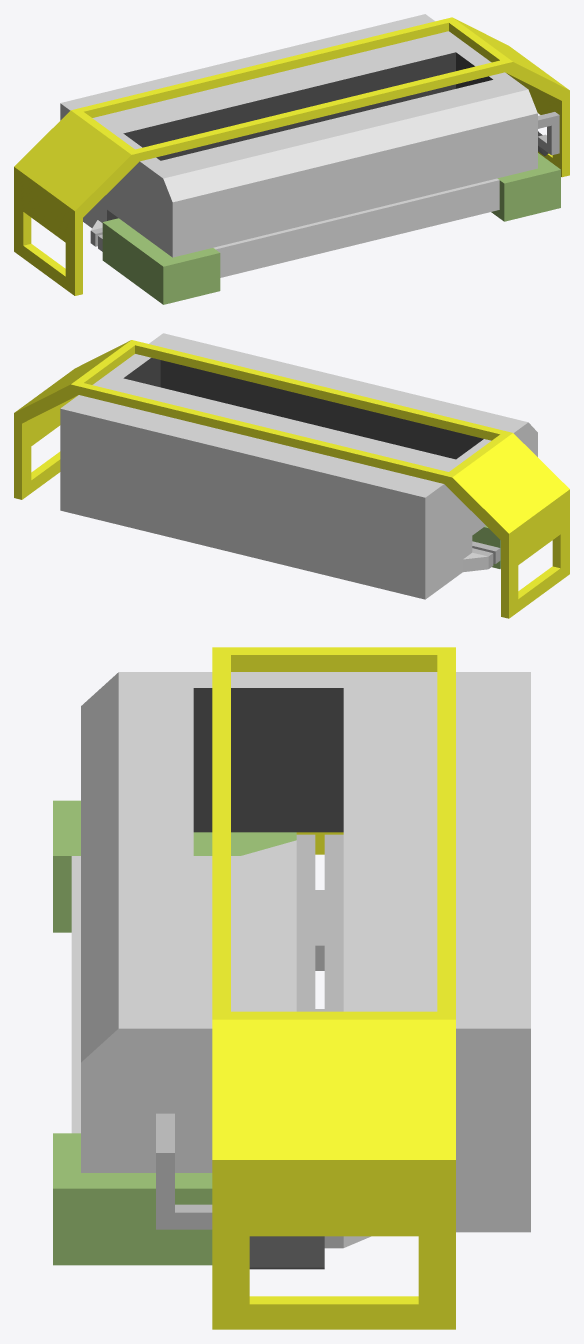
File: cnc_bending_machine_4_state_2.dae
The picture shows the model from 3 angles, top to bottom: view 1: azimuth 30°, elevation 25°; view 2: azimuth 150°, elevation 25°; view 3: azimuth 270°, elevation 25°; orthographic projection. The views are drawn at different scales.
Visible parts, largest first — view 1: coords_ME_ID53_MA_material_8, coords_ME_ID41_MA_material_3, coords_ME_ID109_MA_material, coords_ME_ID19_MA_Color_F09_, coords_ME_ID11_MA_Color_F09_, coords_ME_ID25_MA_material_11, coords_ME_ID3_MA_material_3; view 2: coords_ME_ID53_MA_material_8, coords_ME_ID41_MA_material_3, coords_ME_ID109_MA_material, coords_ME_ID3_MA_material_3, coords_ME_ID19_MA_Color_F09_, coords_ME_ID61_MA_material_11; view 3: coords_ME_ID53_MA_material_8, coords_ME_ID41_MA_material_3, coords_ME_ID109_MA_material, coords_ME_ID11_MA_Color_F09_, coords_ME_ID103_MA_material_8, coords_ME_ID61_MA_material_11, coords_ME_ID19_MA_Color_F09_, coords_ME_ID25_MA_material_11, coords_ME_ID67_MA_material, coords_ME_ID85_MA_material_3.
Part boxes in pixels (bbox=[...]): coords_ME_ID53_MA_material_8: bbox=[60, 14, 537, 277]; coords_ME_ID41_MA_material_3: bbox=[14, 17, 569, 295]; coords_ME_ID109_MA_material: bbox=[107, 52, 492, 220]; coords_ME_ID19_MA_Color_F09_: bbox=[102, 218, 220, 304]; coords_ME_ID11_MA_Color_F09_: bbox=[491, 153, 560, 221]; coords_ME_ID25_MA_material_11: bbox=[538, 112, 559, 155]; coords_ME_ID3_MA_material_3: bbox=[23, 212, 65, 276]; coords_ME_ID53_MA_material_8: bbox=[60, 333, 537, 599]; coords_ME_ID41_MA_material_3: bbox=[14, 340, 569, 618]; coords_ME_ID109_MA_material: bbox=[123, 358, 483, 459]; coords_ME_ID3_MA_material_3: bbox=[518, 534, 560, 598]; coords_ME_ID19_MA_Color_F09_: bbox=[472, 526, 500, 568]; coords_ME_ID61_MA_material_11: bbox=[472, 541, 500, 568]; coords_ME_ID53_MA_material_8: bbox=[71, 672, 530, 1247]; coords_ME_ID41_MA_material_3: bbox=[212, 647, 455, 1329]; coords_ME_ID109_MA_material: bbox=[193, 688, 343, 832]; coords_ME_ID11_MA_Color_F09_: bbox=[53, 1133, 212, 1265]; coords_ME_ID103_MA_material_8: bbox=[193, 840, 296, 1012]; coords_ME_ID61_MA_material_11: bbox=[296, 834, 343, 1248]; coords_ME_ID19_MA_Color_F09_: bbox=[53, 800, 296, 932]; coords_ME_ID25_MA_material_11: bbox=[156, 1113, 212, 1229]; coords_ME_ID67_MA_material: bbox=[249, 1236, 324, 1269]; coords_ME_ID85_MA_material_3: bbox=[249, 1296, 418, 1304].
Size of the model in its own units: 76.85 by 18.9 by 32.13.
